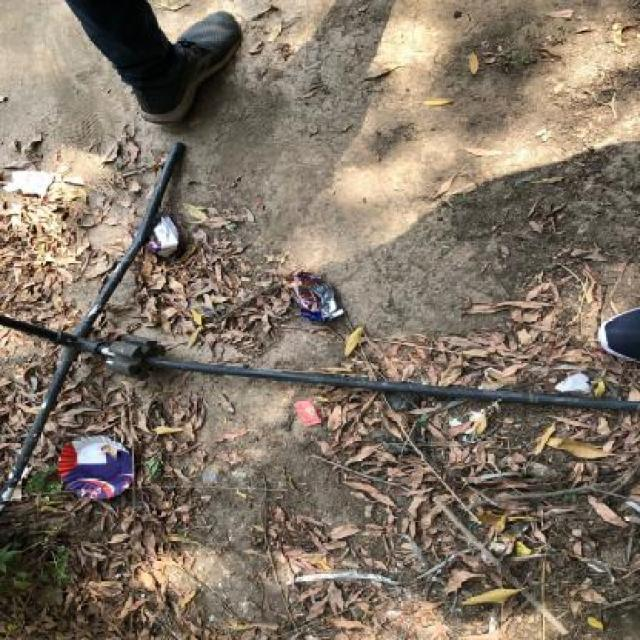garbage: (280, 382, 639, 640), (48, 423, 169, 518), (274, 269, 353, 331), (142, 208, 187, 277)
